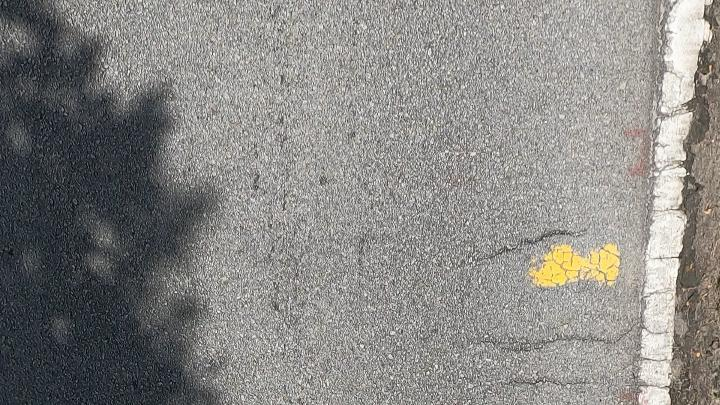Lane: (637, 1, 712, 403), (637, 0, 710, 404)
